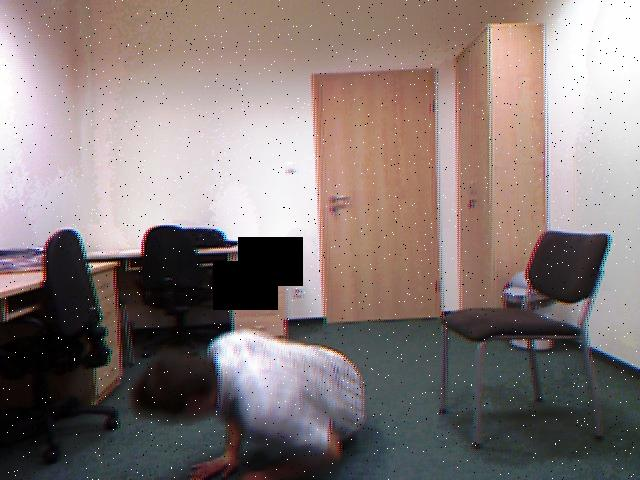fall: (129, 317, 379, 480)
